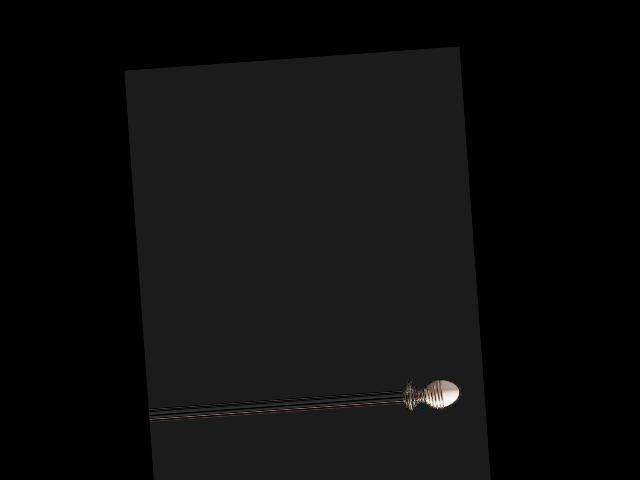egg: (424, 379, 460, 408)
